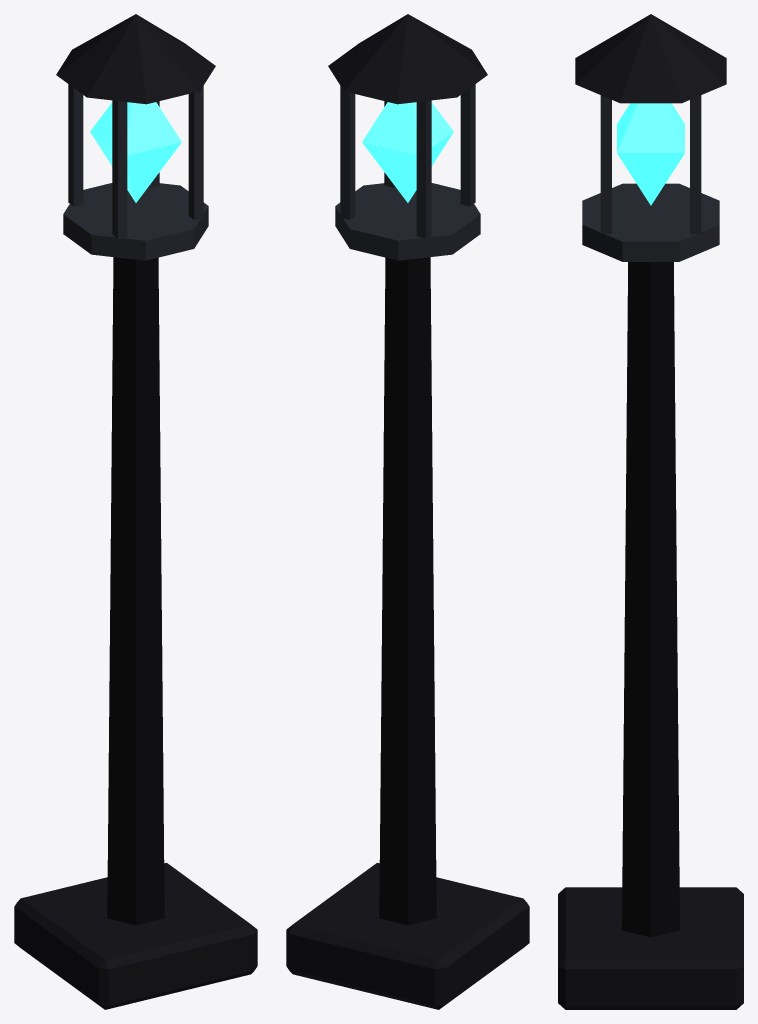
File: SM_Light_LampPost.glb
The picture shows the model from 3 angles, left to right: view 1: azimuth 30°, elevation 25°; view 2: azimuth 150°, elevation 25°; view 3: azimuth 270°, elevation 25°; orthographic projection.
Parts seen in each view (by area): view 1: SM_Light_LampPost; view 2: SM_Light_LampPost; view 3: SM_Light_LampPost.
Boxes of the visible parts, x1,y1,x2,y2 form: SM_Light_LampPost: [14, 14, 257, 1009]; SM_Light_LampPost: [286, 14, 529, 1009]; SM_Light_LampPost: [558, 14, 743, 1009].
Bounding box in the file's own units: 0.5 × 2.85 × 0.5.
Materials: 1 (1 with a texture image).
